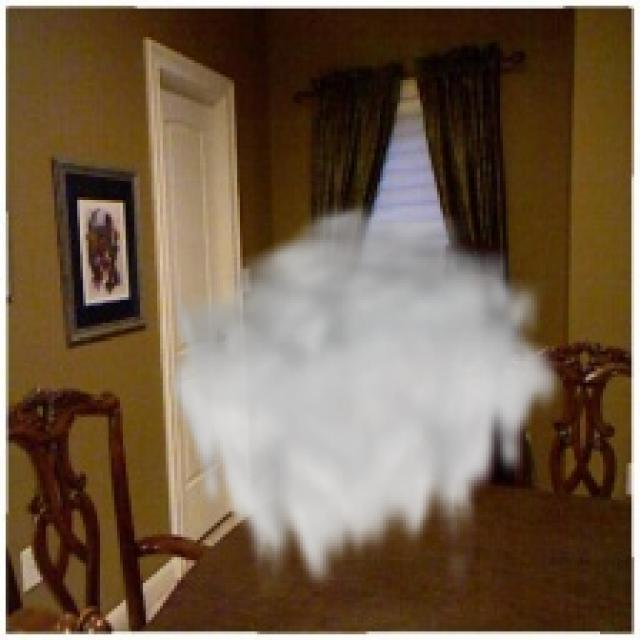Smoke: (165, 197, 566, 600)
